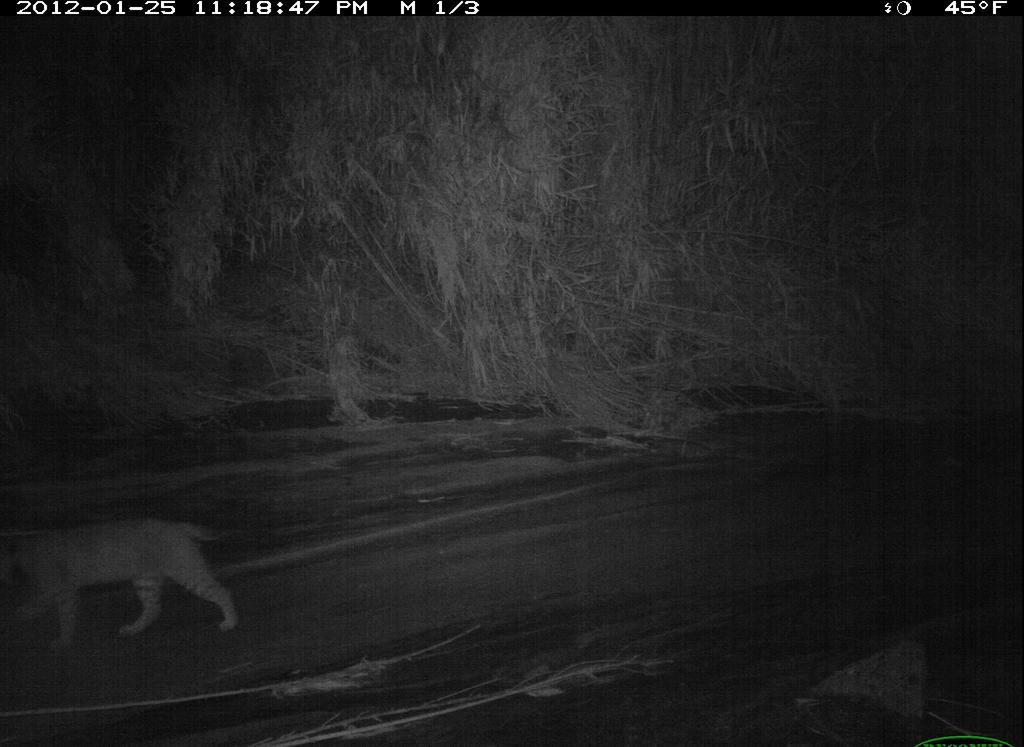bobcat: (2, 507, 253, 665)
